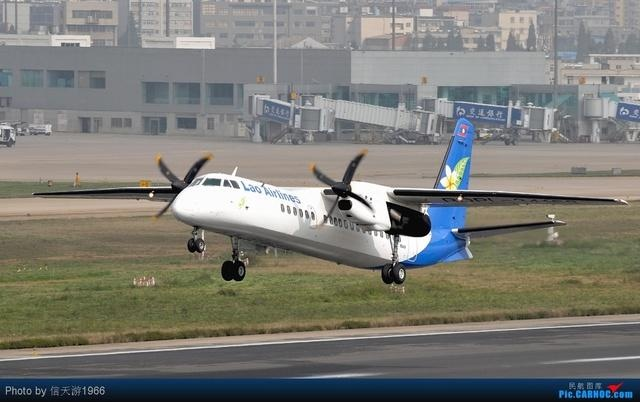airplane: (37, 117, 628, 284)
